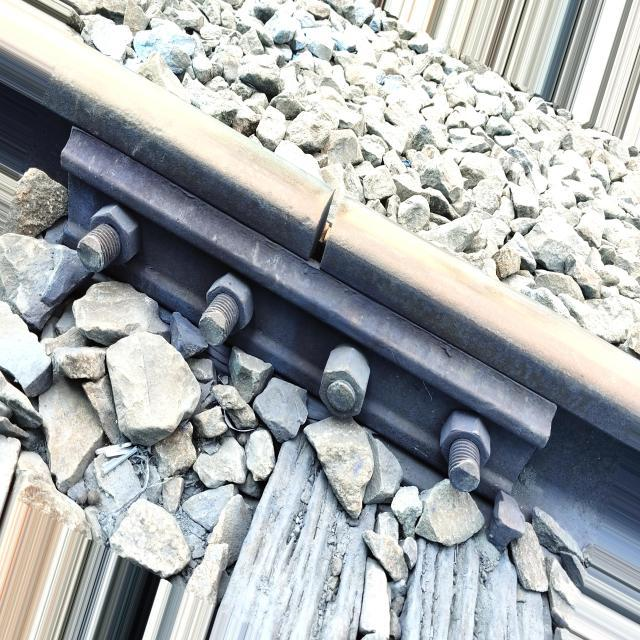Good Joint: (52, 123, 556, 517)
